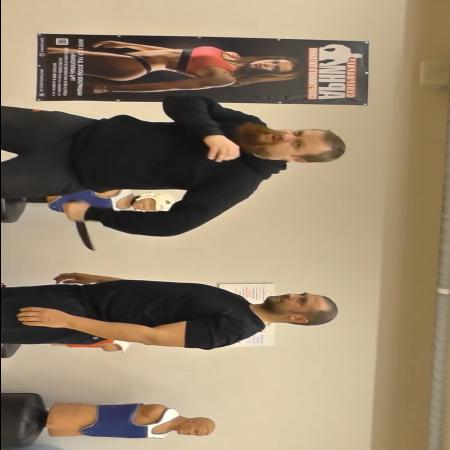long weapon: (61, 199, 100, 253)
